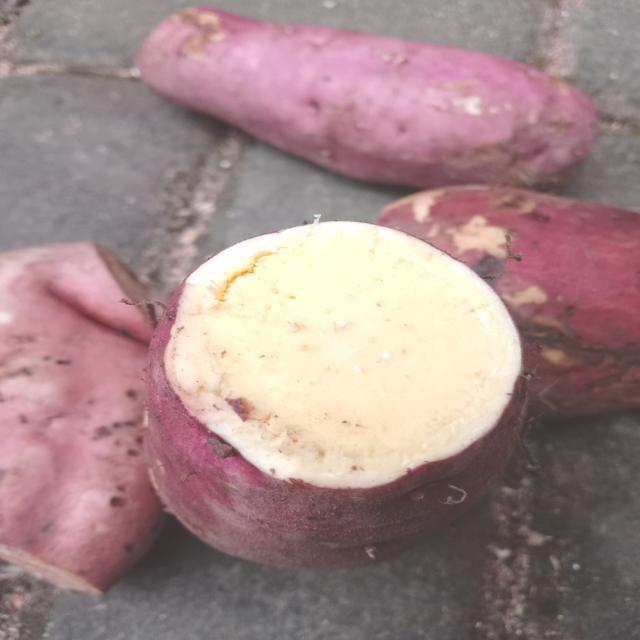Healthy Sweet Potato: (165, 221, 522, 488)
